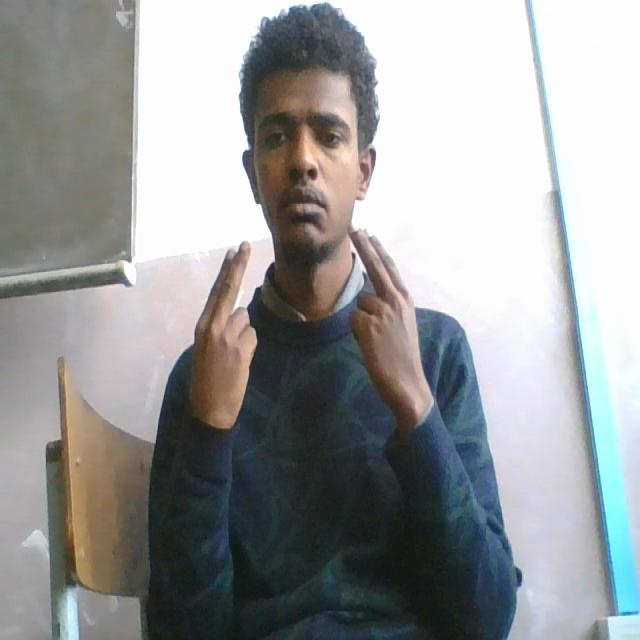zena: (183, 217, 431, 425)
